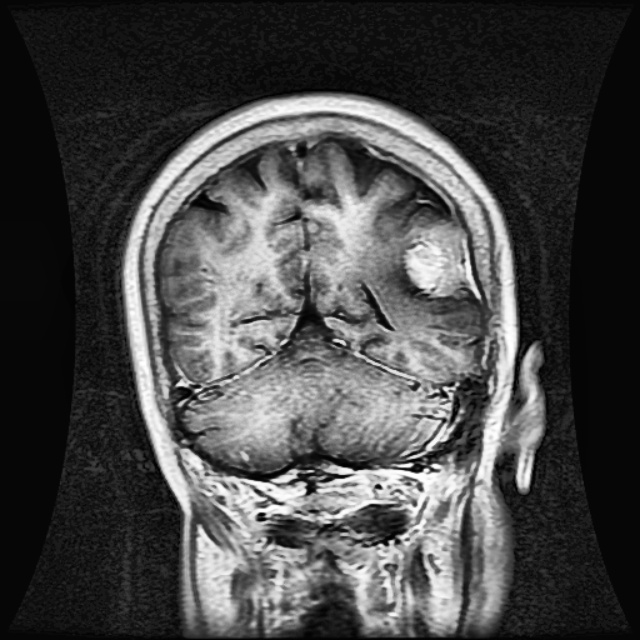Glioma: (403, 213, 473, 298)
